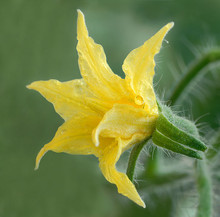tomato: (19, 6, 217, 215)
